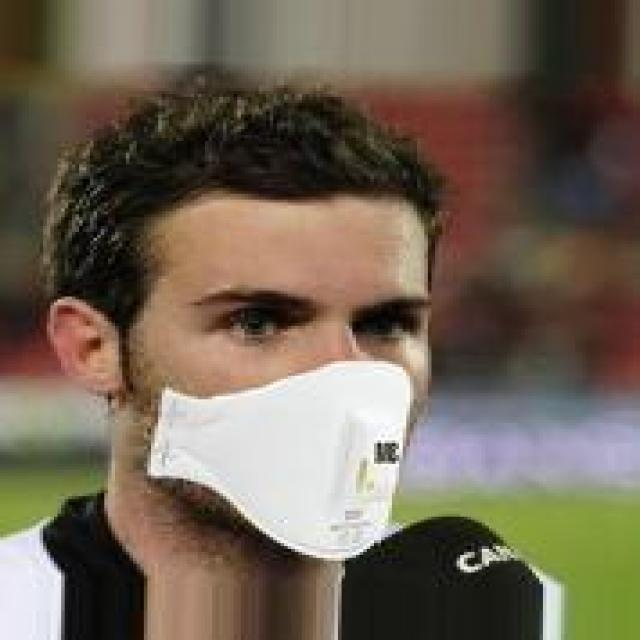mask: (68, 91, 518, 614)
